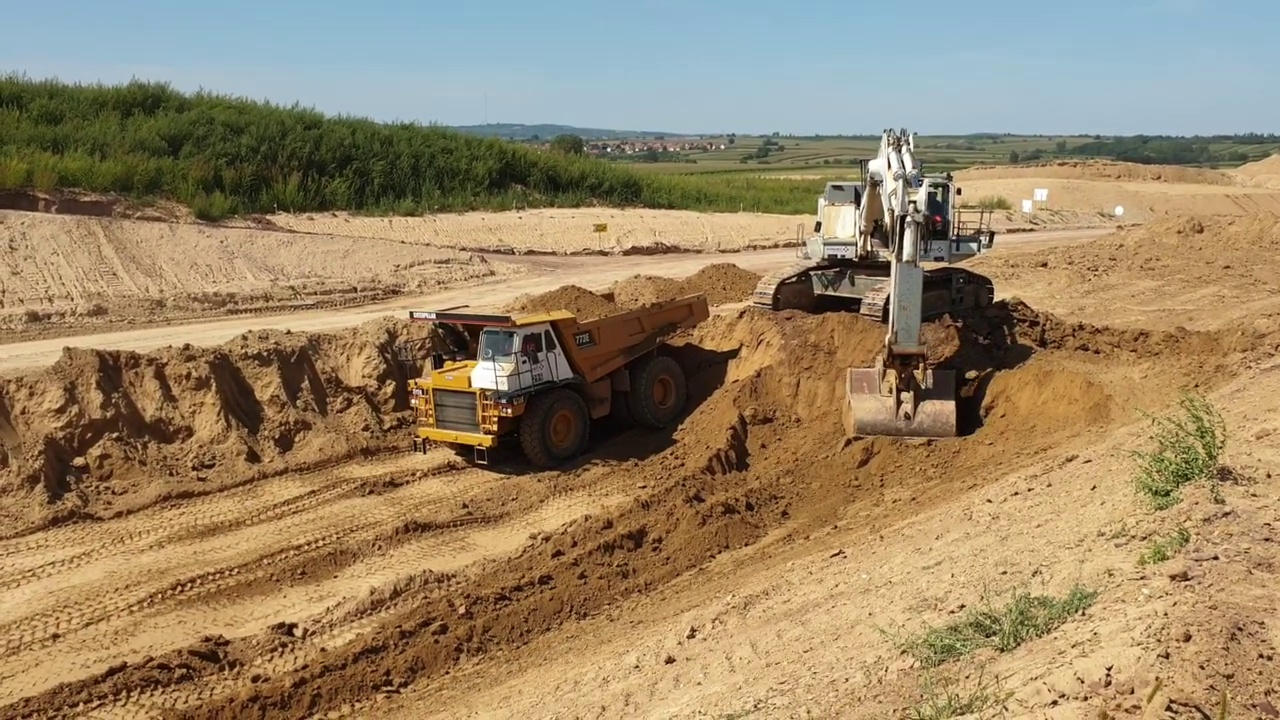excavator: (752, 123, 1001, 447)
truck: (402, 289, 716, 475)
